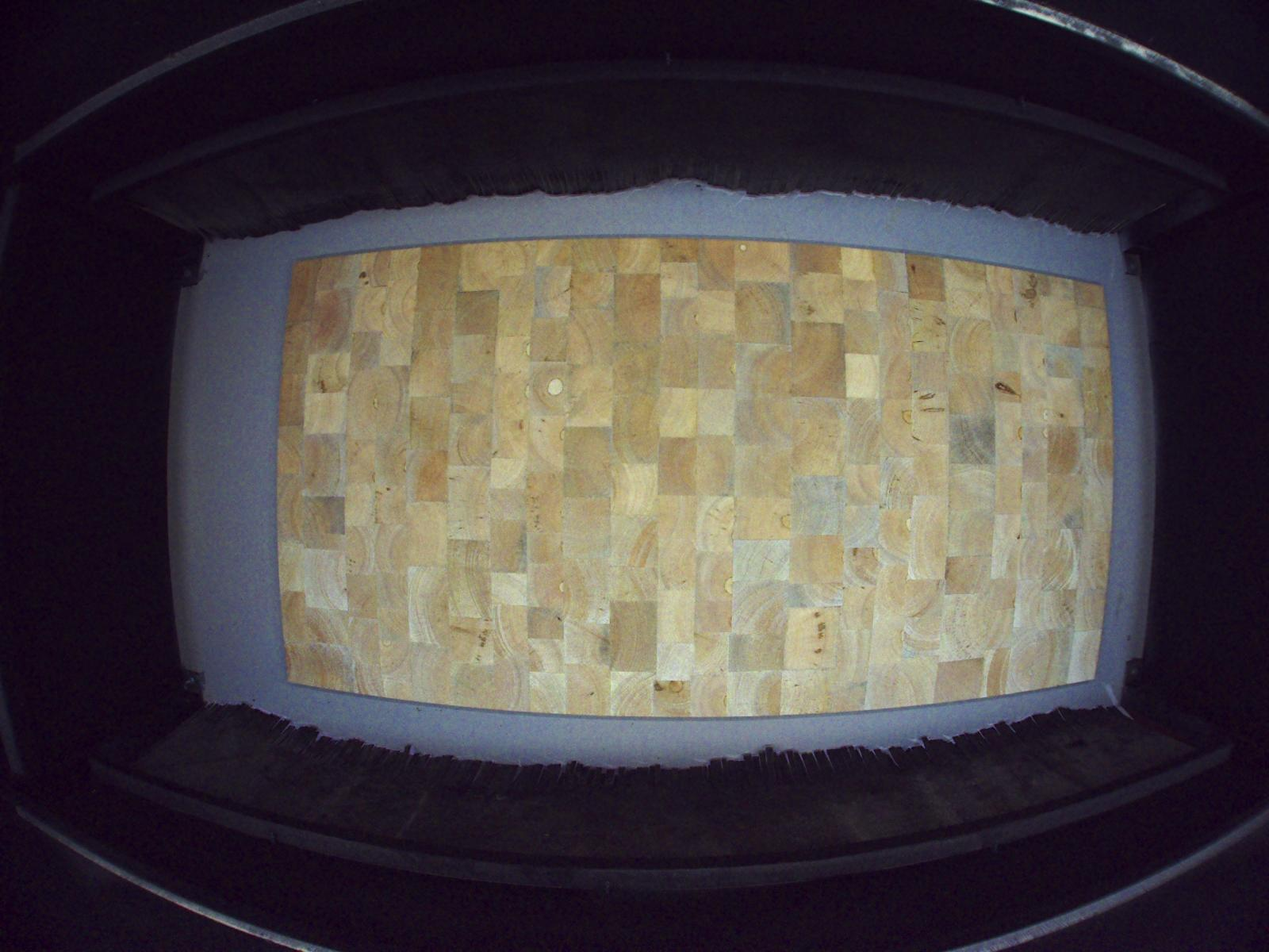nudillo: (994, 379, 1023, 399)
